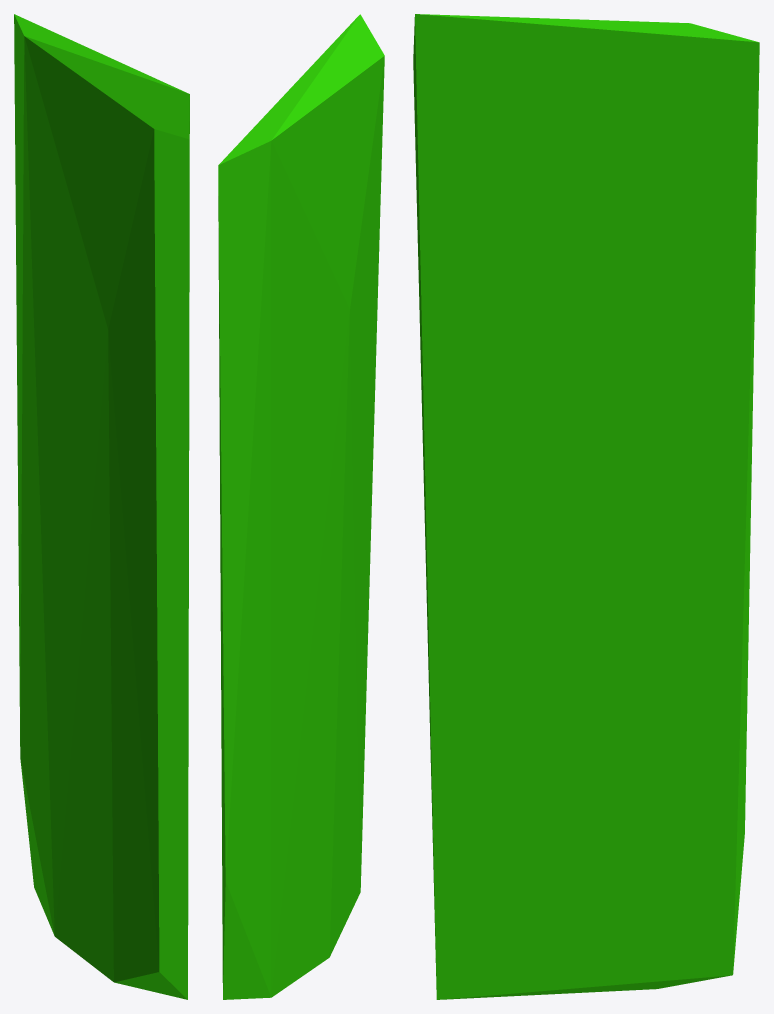
The model's file is organic_bin_convex_piece_011.obj.
3 renders of one model, left to right at view 1: azimuth 30°, elevation 25°; view 2: azimuth 150°, elevation 25°; view 3: azimuth 270°, elevation 25°, orthographic. The views are drawn at different scales.
Size of the model in its own units: 0.0256 by 0.4953 by 0.1573.
